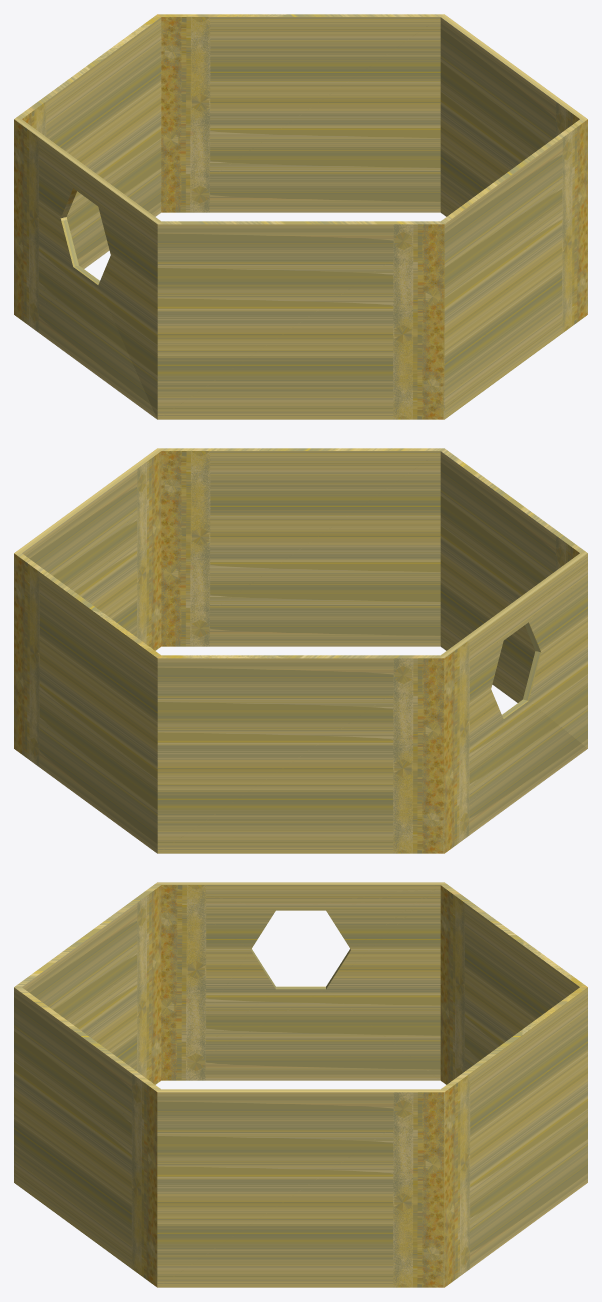
The model's file is Room1111.fbx.
3 views of the same model, one above another, from view 1: azimuth 30°, elevation 25°; view 2: azimuth 150°, elevation 25°; view 3: azimuth 270°, elevation 25° (orthographic).
Visible parts, largest first — view 1: WallPortalThick; view 2: WallPortalThick; view 3: WallPortalThick.
Part boxes in pixels (x1,y1,x2,y2): WallPortalThick: [14, 14, 587, 419]; WallPortalThick: [14, 448, 587, 853]; WallPortalThick: [14, 882, 587, 1287].
Bounding box in the file's own units: 29.1 × 12.63 × 33.6.
